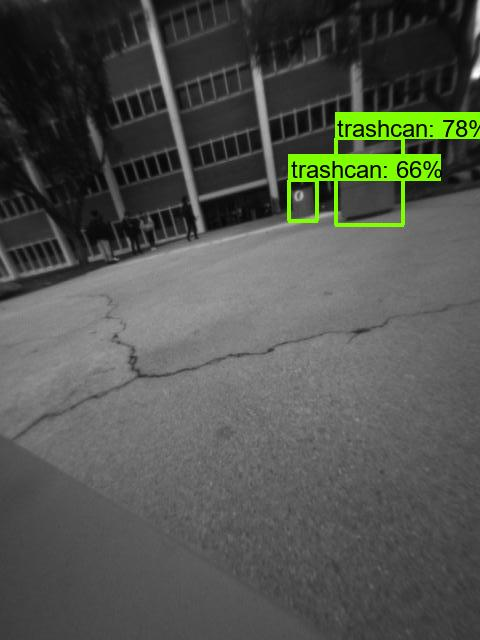trashcan: (335, 139, 397, 222), (288, 183, 319, 221)
